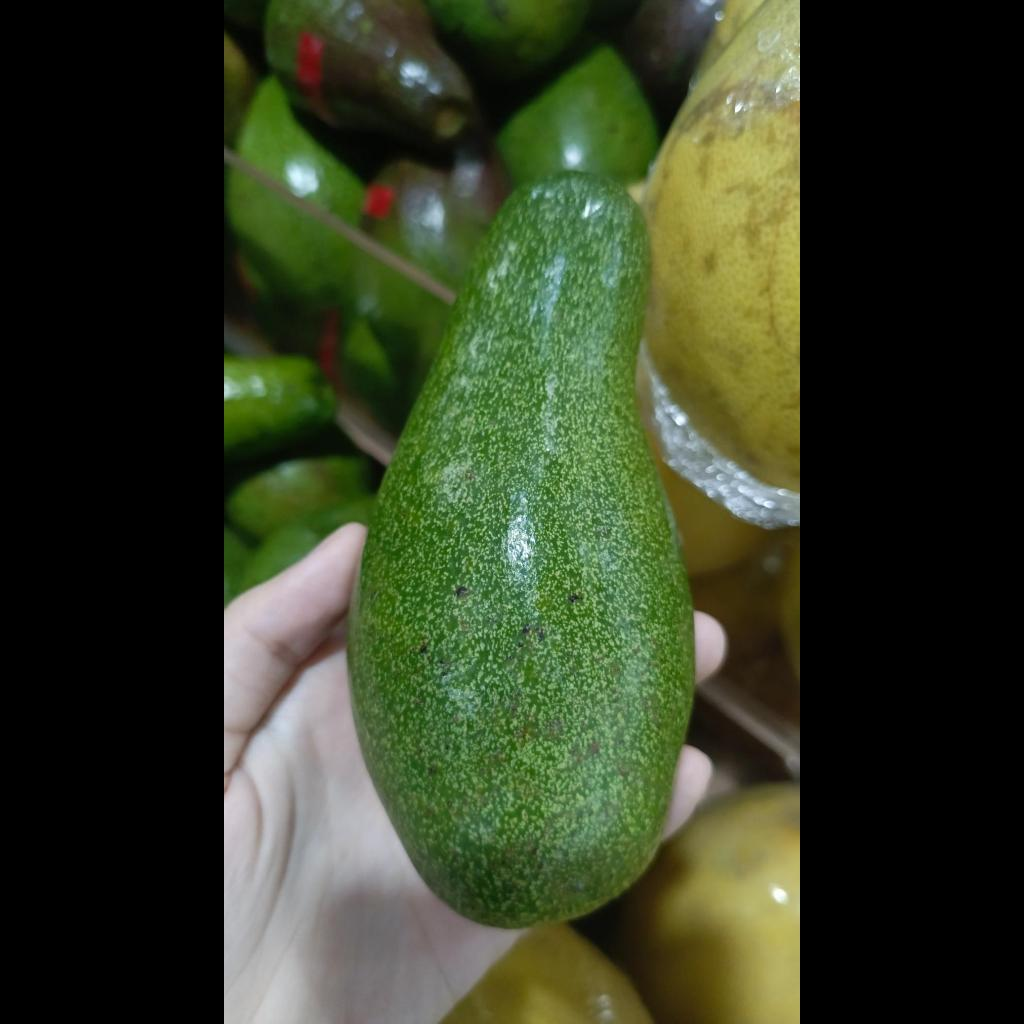fruto_sano: (348, 172, 694, 928)
